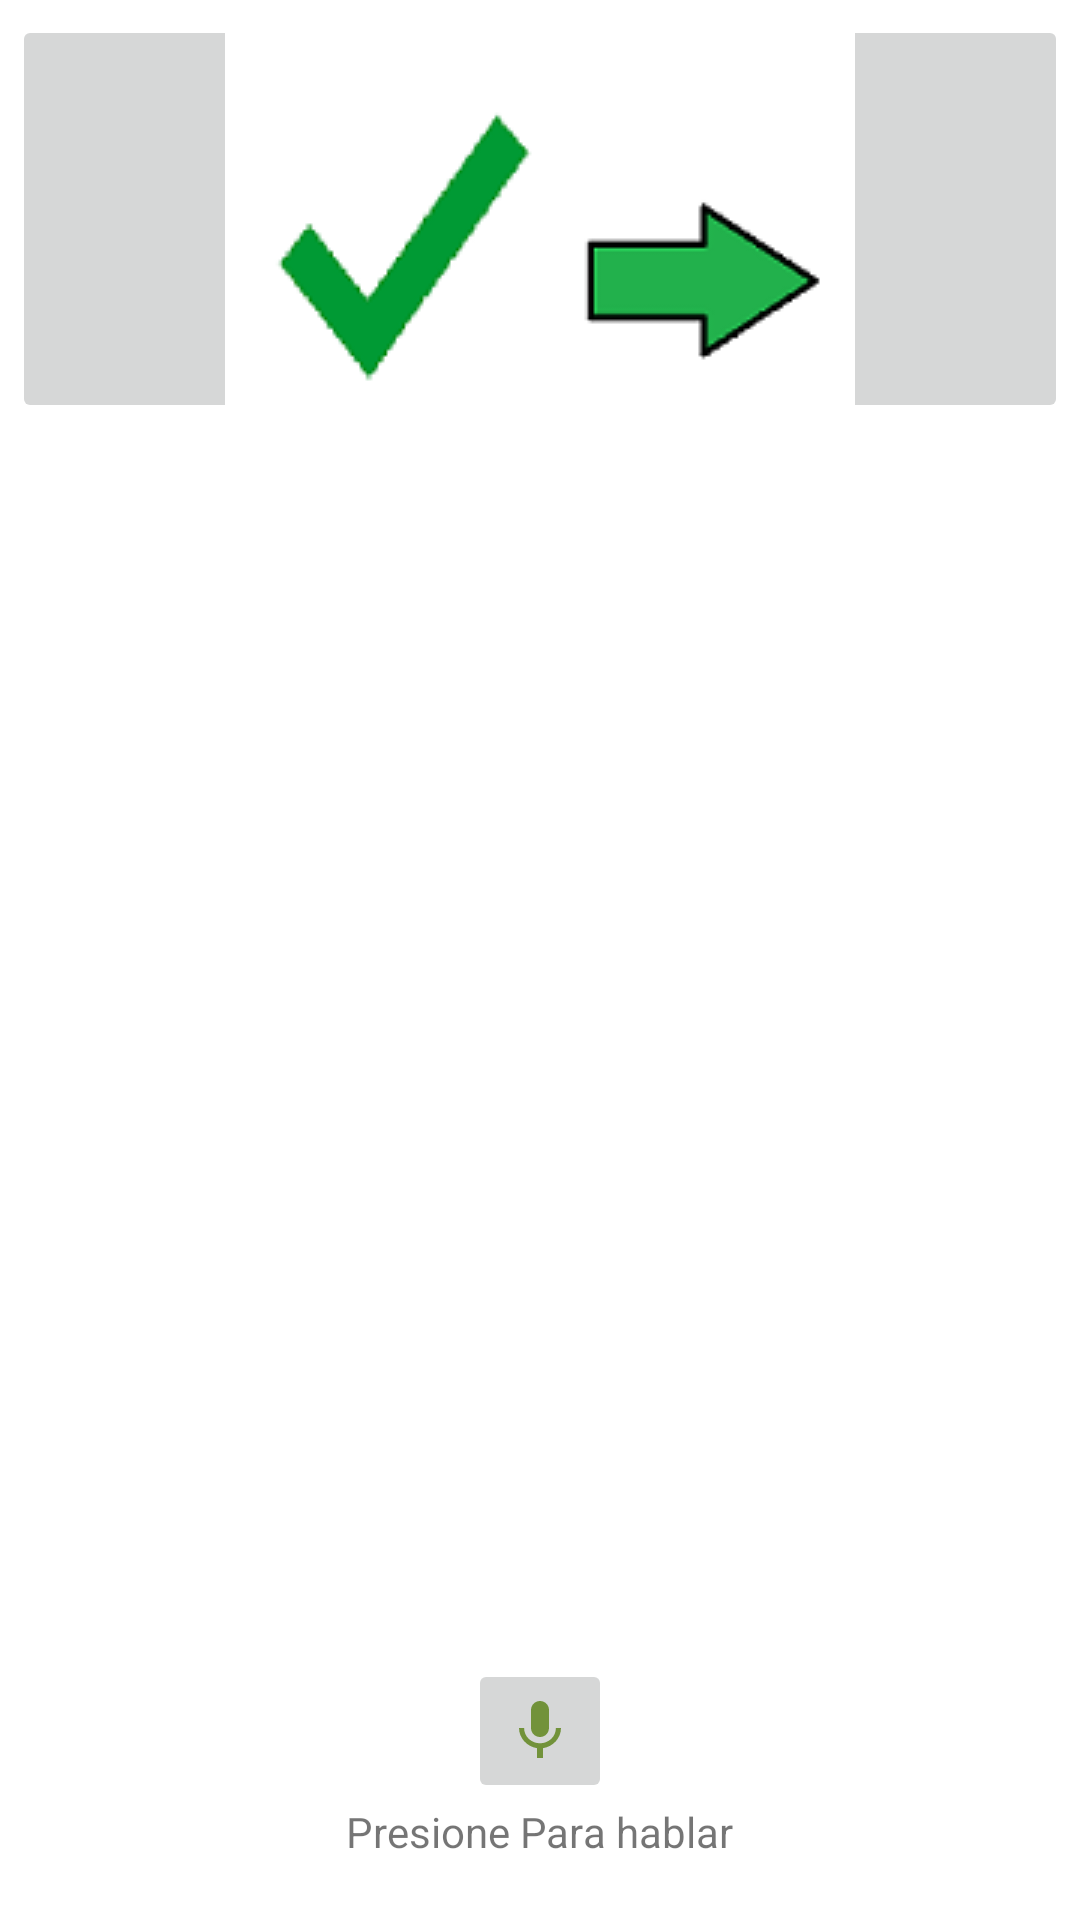

Named icons in this screenshot (1080w x 1920h) and their bounding boxes, (x1, y1, x2, y2):
micro: (480, 1677, 600, 1785)
